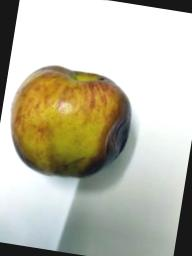Apple Overripe: (0, 56, 139, 188)
